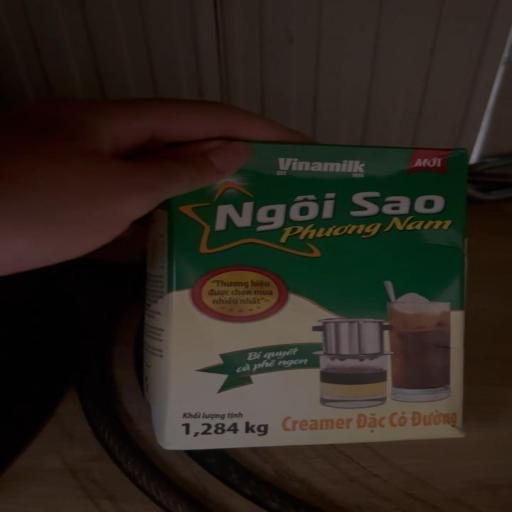ly_giay: (139, 143, 465, 450)
